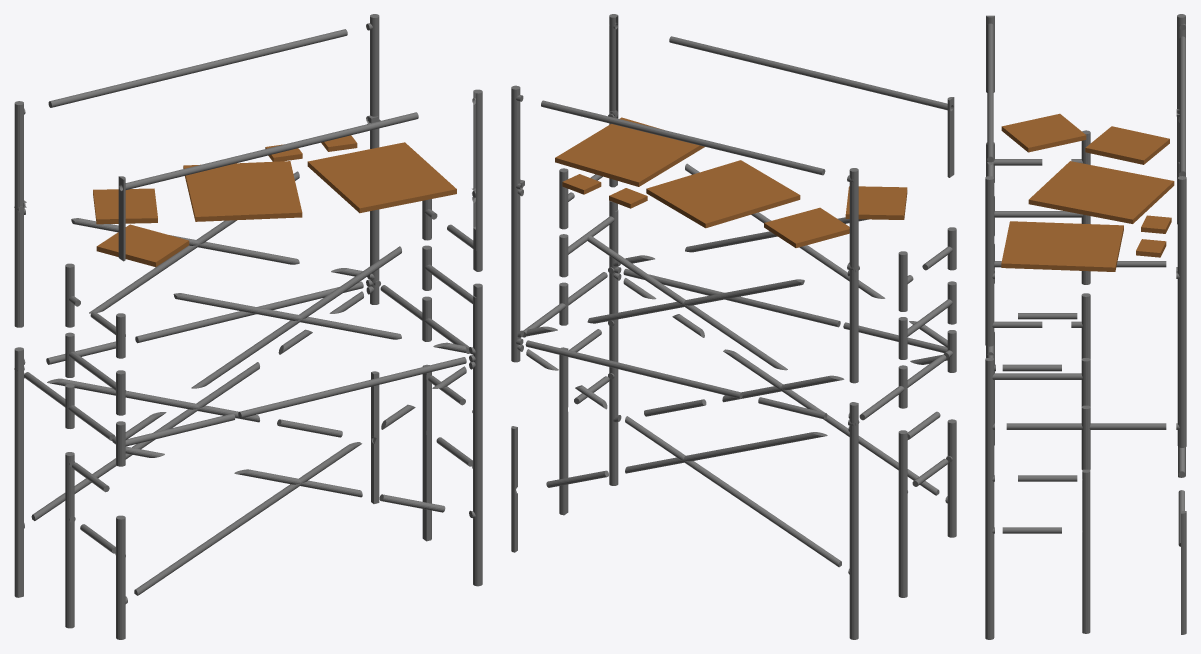
Rendered from Destroyed Scaffold.fbx.
3 views of the same model, side by side, from view 1: azimuth 30°, elevation 25°; view 2: azimuth 150°, elevation 25°; view 3: azimuth 270°, elevation 25° (orthographic). The views are drawn at different scales.
Parts seen in each view (by area): view 1: Cube.141, Cube.142, Cube.123, Cube.130, Cube.139, Cube.124, Cube.008, Cube.095, Cube.129, Cube.140, Cube.094, Cube.093 (+17 smaller); view 2: Cube.142, Cube.141, Cube.130, Cube.129, Cube.093, Cube.139, Cube.008, Cube.095, Cube.124, Cube.094, Cube.140, Cube.144 (+16 smaller); view 3: Cube.142, Cube.141, Cube.093, Cube.008, Cube.143, Cube.144, Cube.091, Cube.114, Cube.133, Cube.134, Cube.139, Cube.140 (+15 smaller).
Part boxes in pixels (box(x1,y1,x2,y2)): Cube.141: box(307, 142, 456, 213); Cube.142: box(183, 161, 302, 221); Cube.123: box(173, 246, 401, 388); Cube.130: box(31, 362, 259, 520); Cube.139: box(118, 112, 418, 261); Cube.124: box(134, 442, 362, 595); Cube.008: box(469, 295, 482, 586); Cube.095: box(14, 347, 25, 597); Cube.129: box(71, 171, 299, 313); Cube.140: box(48, 29, 347, 107); Cube.094: box(14, 101, 26, 327); Cube.093: box(366, 14, 380, 304); Cube.142: box(646, 160, 800, 228); Cube.141: box(555, 117, 704, 186); Cube.130: box(625, 416, 841, 567); Cube.129: box(587, 235, 804, 370); Cube.093: box(511, 85, 524, 362); Cube.139: box(669, 36, 954, 177); Cube.008: box(608, 210, 621, 485); Cube.095: box(848, 402, 859, 639); Cube.124: box(722, 349, 939, 495); Cube.094: box(847, 168, 859, 383); Cube.140: box(541, 100, 825, 175); Cube.144: box(764, 207, 849, 247); Cube.142: box(1028, 161, 1174, 223); Cube.141: box(1001, 221, 1123, 271); Cube.093: box(1176, 176, 1186, 447); Cube.008: box(985, 369, 994, 639); Cube.143: box(1001, 113, 1086, 152); Cube.144: box(1085, 126, 1169, 164); Cube.091: box(985, 176, 994, 326); Cube.114: box(1082, 469, 1090, 633); Cube.133: box(1006, 405, 1166, 447); Cube.134: box(985, 358, 1090, 399); Cube.139: box(986, 15, 994, 162); Cube.140: box(1179, 36, 1185, 176).
Bounding box in the file's own units: 1644 × 2117 × 840.
